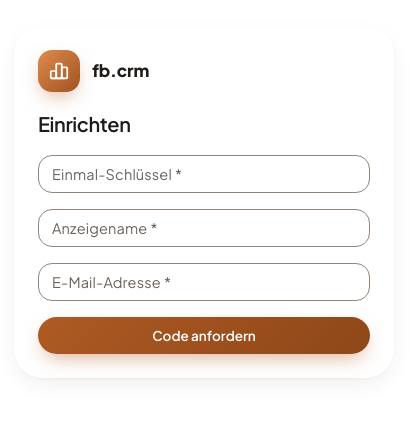
Einrichtungsseite, Schritt Angaben › fordert den Code mit den drei Angaben an und zeigt dann Codefeld und Hinweis
In the field labelled "Einmal-Schlüssel *": {"x": 204, "y": 174} [38,155,370,193], type "einmal"
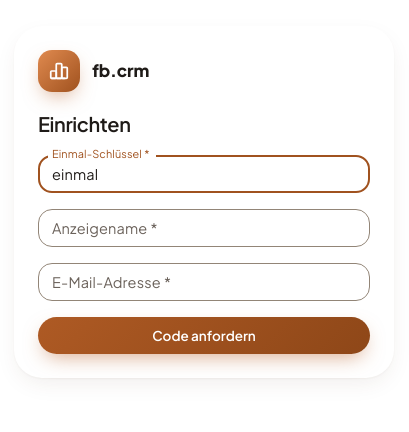
In the field labelled "Anzeigename *": {"x": 204, "y": 228} [38,209,370,247], type "Manfred Wolff"
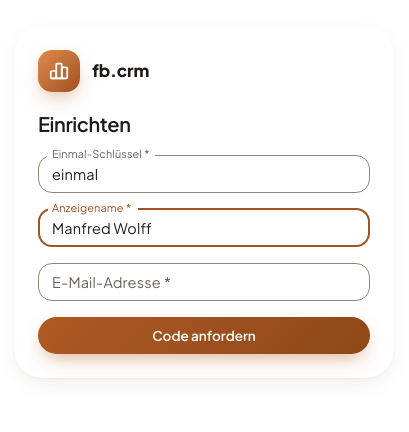
In the field labelled "E-Mail-Adresse *": {"x": 204, "y": 282} [38,263,370,301], type "info@mwolff.org"
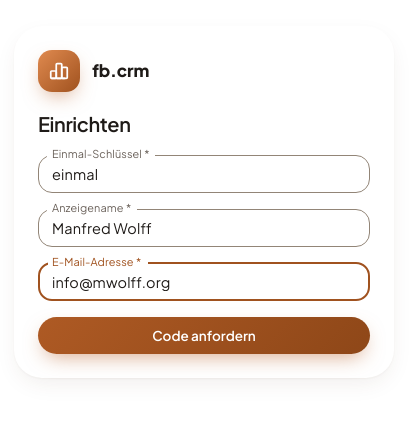
Click the button "Code anfordern": {"x": 204, "y": 335} [38,317,370,354]
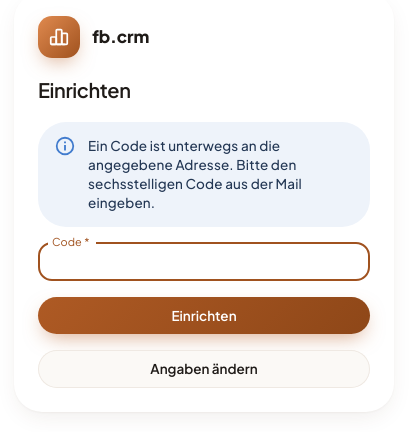
Result: the message shows "Code ist unterwegs" at [88,136,302,211]
Result: the field labelled "Code *" is shown at [38,243,370,280]
